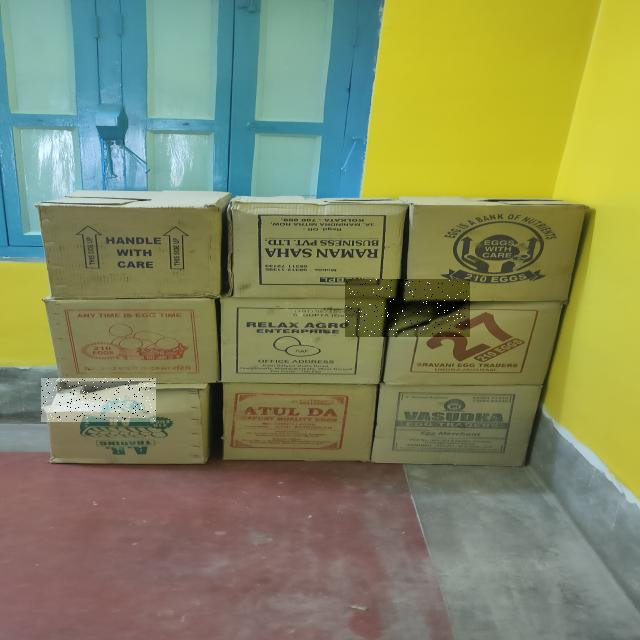squeeze: (346, 280, 469, 336), (41, 378, 156, 421)
